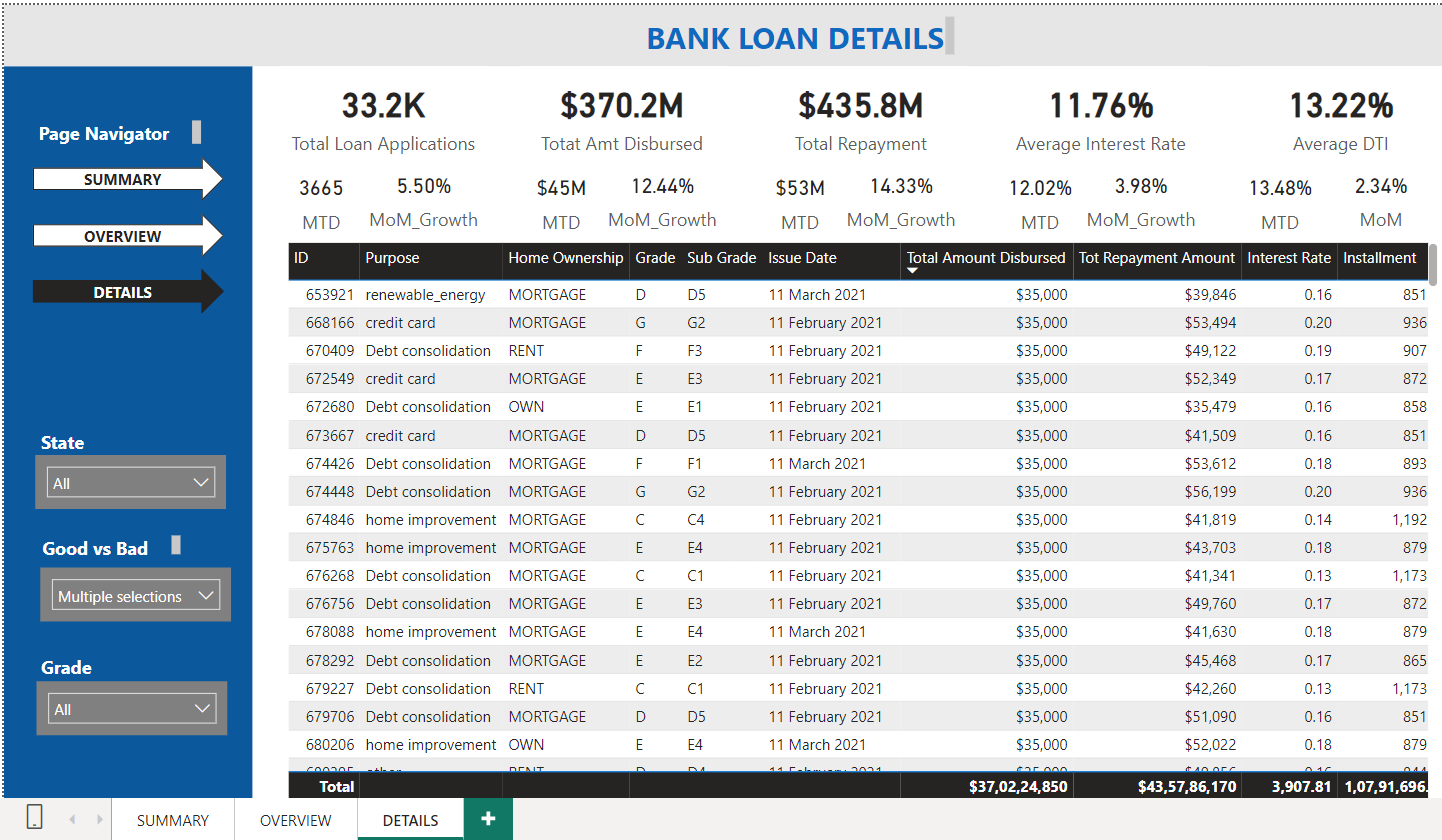

Layout of this report page (visuals, bound fields, positions):
{"tool":"powerbi","page":{"name":"DETAILS","canvas":[1280,720],"ordinal":2},"visuals":[{"type":"shape","box":[0,54.7,220.9,665.1],"z":0},{"type":"card","fields":{"Values":["LoanData.TotLoanApplications"]},"box":[246.5,54.7,181.4,87.2],"z":0,"group":"g1"},{"type":"card","fields":{"Values":["LoanData.TotAmtDisbursed"]},"box":[459,54.7,181.4,87.2],"z":0,"group":"g2"},{"type":"card","fields":{"Values":["LoanData.TotRepayment"]},"box":[671.4,54.7,181.4,87.2],"z":0,"group":"g3"},{"type":"card","fields":{"Values":["LoanData.AvgIntRate"]},"box":[884.6,54.7,181.4,87.2],"z":0,"group":"g4"},{"type":"card","fields":{"Values":["LoanData.AvgDTI"]},"box":[1097.8,54.7,181.4,87.2],"z":0,"group":"g5"},{"type":"shape","box":[0,0,1280.2,54.7],"z":1000},{"type":"card","fields":{"Values":["LoanData.MTD_TotApplications"]},"box":[246.6,142.3,70.9,64],"z":1000,"group":"g1"},{"type":"card","fields":{"Values":["LoanData.MTD_TotDisbursed"]},"box":[458.6,142.3,73.3,64],"z":1000,"group":"g2"},{"type":"card","fields":{"Values":["LoanData.MTD_TotRepayment"]},"box":[671,142.3,73.3,64],"z":1000,"group":"g3"},{"type":"card","fields":{"Values":["LoanData.MTD_IntRate"]},"box":[884.2,142.3,73.3,64],"z":1000,"group":"g4"},{"type":"card","fields":{"Values":["LoanData.MTD_DTI"]},"box":[1097.4,142.3,73.3,64],"z":1000,"group":"g5"},{"type":"textbox","box":[565.6,5.6,284.4,44.4],"z":2000},{"type":"card","fields":{"Values":["LoanData.MoM_LoanAppl"]},"box":[317.4,139.6,110.5,66.3],"z":2000,"group":"g1"},{"type":"card","fields":{"Values":["LoanData.MoM_AmtDisbursed"]},"box":[530,139.6,110.5,66.3],"z":2000,"group":"g2"},{"type":"card","fields":{"Values":["LoanData.MoM_TotRepayment"]},"box":[742.4,139.6,110.5,66.3],"z":2000,"group":"g3"},{"type":"card","fields":{"Values":["LoanData.MoM_IntRate"]},"box":[955.6,139.6,110.5,66.3],"z":2000,"group":"g4"},{"type":"card","fields":{"Values":["LoanData.MoM_DTI"]},"box":[1168.8,139.6,110.5,66.3],"z":2000,"group":"g5"},{"type":"group","id":"g1","title":"Group 1","box":[246.5,54.7,181.4,151.2],"z":3000},{"type":"group","id":"g2","title":"Group 1","box":[458.6,54.7,181.8,151.6],"z":4000},{"type":"group","id":"g3","title":"Group 1","box":[671,54.7,182.6,151.2],"z":5000},{"type":"group","id":"g4","title":"Group 1","box":[884.2,54.7,182.6,151.2],"z":6000},{"type":"group","id":"g5","title":"Group 1","box":[1097.4,54.7,182.6,151.2],"z":7000},{"type":"group","id":"g6","title":"Group 5","box":[28.2,372.7,169.8,75.6],"z":8000},{"type":"group","id":"g7","title":"Group 5","box":[28.7,467,172.8,81.1],"z":9000},{"type":"group","id":"g8","title":"Group 5","box":[27.6,571.8,170.4,76.5],"z":10000},{"type":"tableEx","fields":{"Values":["LoanData.id","LoanData.purpose","LoanData.home_ownership","LoanData.grade","LoanData.sub_grade","LoanData.issue_date","LoanData.TotAmtDisbursed","LoanData.TotRepayment","Sum(LoanData.int_rate)","Sum(LoanData.installment)"]},"box":[246.7,206.7,1033.3,513.3],"z":11000},{"type":"group","id":"g9","title":"Group 6","box":[25.6,97.8,170,178.9],"z":12000},{"type":"slicer","fields":{"Values":["LoanData.address_state"]},"box":[28.2,400.6,169.8,47.7],"z":12000,"group":"g6"},{"type":"slicer","fields":{"Values":["LoanData.Good vs Bad loans"]},"box":[31.8,500.4,169.8,47.7],"z":12000,"group":"g7"},{"type":"slicer","fields":{"Values":["LoanData.grade"]},"box":[28.3,600.6,169.8,47.7],"z":12000,"group":"g8"},{"type":"textbox","box":[25.6,97.8,154.4,31.1],"z":13000,"group":"g9"},{"type":"textbox","box":[28.2,372.7,54.7,31.4],"z":13000,"group":"g6"},{"type":"textbox","box":[28.7,467,133.3,36.7],"z":13000,"group":"g7"},{"type":"textbox","box":[27.6,571.8,82.6,32.6],"z":13000,"group":"g8"},{"type":"pageNavigator","box":[25.6,134.5,170,142.2],"z":14001,"group":"g9"}]}

Visuals, with their boxes on the page's 1280x720 design canvas (x1, y1, x2, y2). These are canvas units, not pixel positions in the 1442x840 screenshot, which may show the page scaled, cropped or inside an application window:
shape: 0/55/221/720
card - LoanData.TotLoanApplications: 246/55/428/142
card - LoanData.TotAmtDisbursed: 459/55/640/142
card - LoanData.TotRepayment: 671/55/853/142
card - LoanData.AvgIntRate: 885/55/1066/142
card - LoanData.AvgDTI: 1098/55/1279/142
shape: 0/0/1280/55
card - LoanData.MTD_TotApplications: 247/142/318/206
card - LoanData.MTD_TotDisbursed: 459/142/532/206
card - LoanData.MTD_TotRepayment: 671/142/744/206
card - LoanData.MTD_IntRate: 884/142/958/206
card - LoanData.MTD_DTI: 1097/142/1171/206
textbox: 566/6/850/50
card - LoanData.MoM_LoanAppl: 317/140/428/206
card - LoanData.MoM_AmtDisbursed: 530/140/640/206
card - LoanData.MoM_TotRepayment: 742/140/853/206
card - LoanData.MoM_IntRate: 956/140/1066/206
card - LoanData.MoM_DTI: 1169/140/1279/206
"Group 1" group: 246/55/428/206
"Group 1" group: 459/55/640/206
"Group 1" group: 671/55/854/206
"Group 1" group: 884/55/1067/206
"Group 1" group: 1097/55/1280/206
"Group 5" group: 28/373/198/448
"Group 5" group: 29/467/202/548
"Group 5" group: 28/572/198/648
tableEx - LoanData.id x LoanData.purpose: 247/207/1280/720
"Group 6" group: 26/98/196/277
slicer - LoanData.address_state: 28/401/198/448
slicer - LoanData.Good vs Bad loans: 32/500/202/548
slicer - LoanData.grade: 28/601/198/648
textbox: 26/98/180/129
textbox: 28/373/83/404
textbox: 29/467/162/504
textbox: 28/572/110/604
pageNavigator: 26/134/196/277
